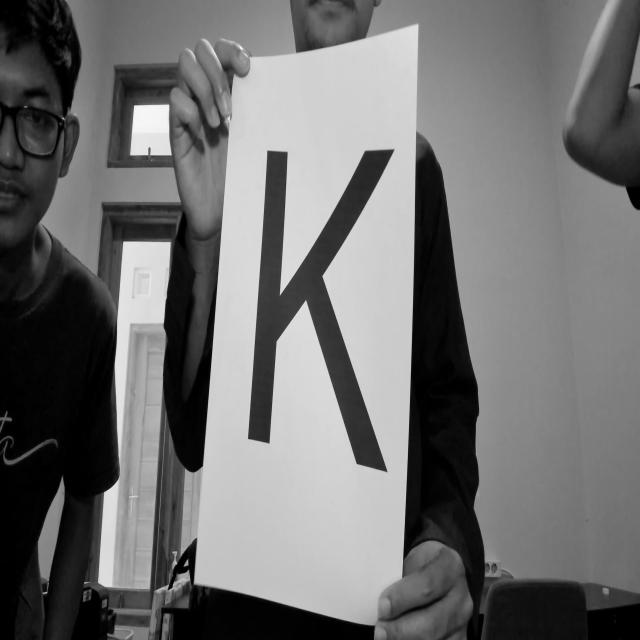k: (248, 135, 400, 468)
